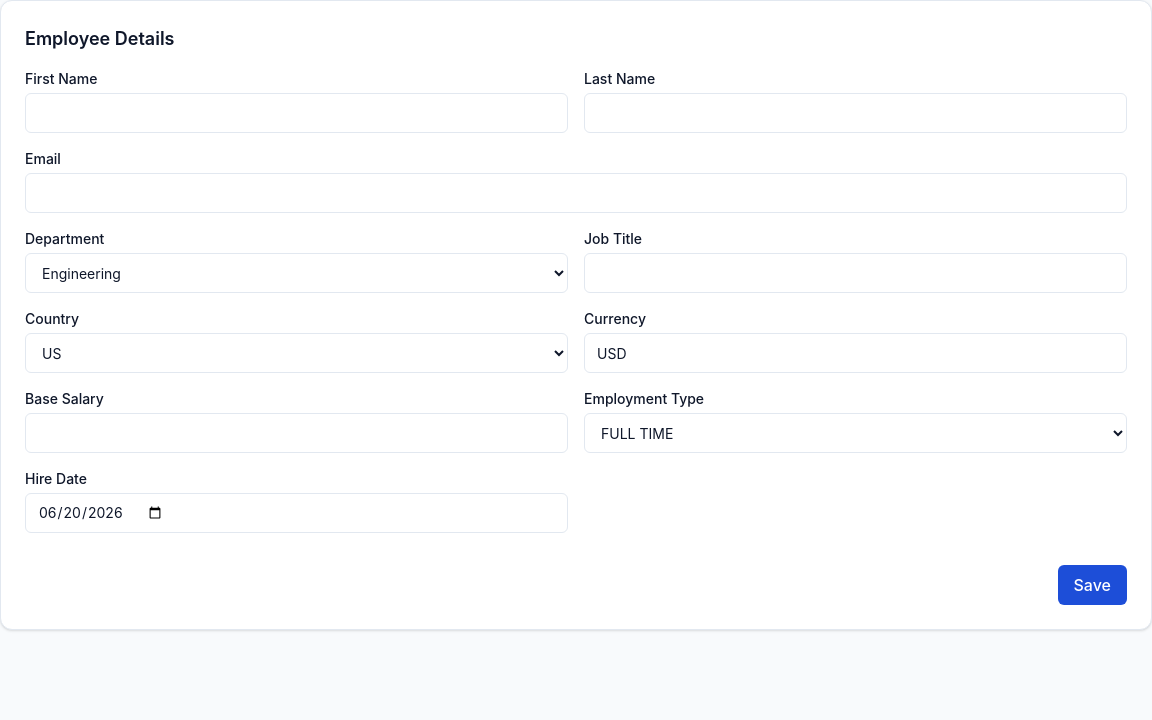
EmployeeForm › auto-updates currency when country changes
Select "GB" in the dropdown below "Country" at {"x": 296, "y": 353}, box [25,333,568,373]
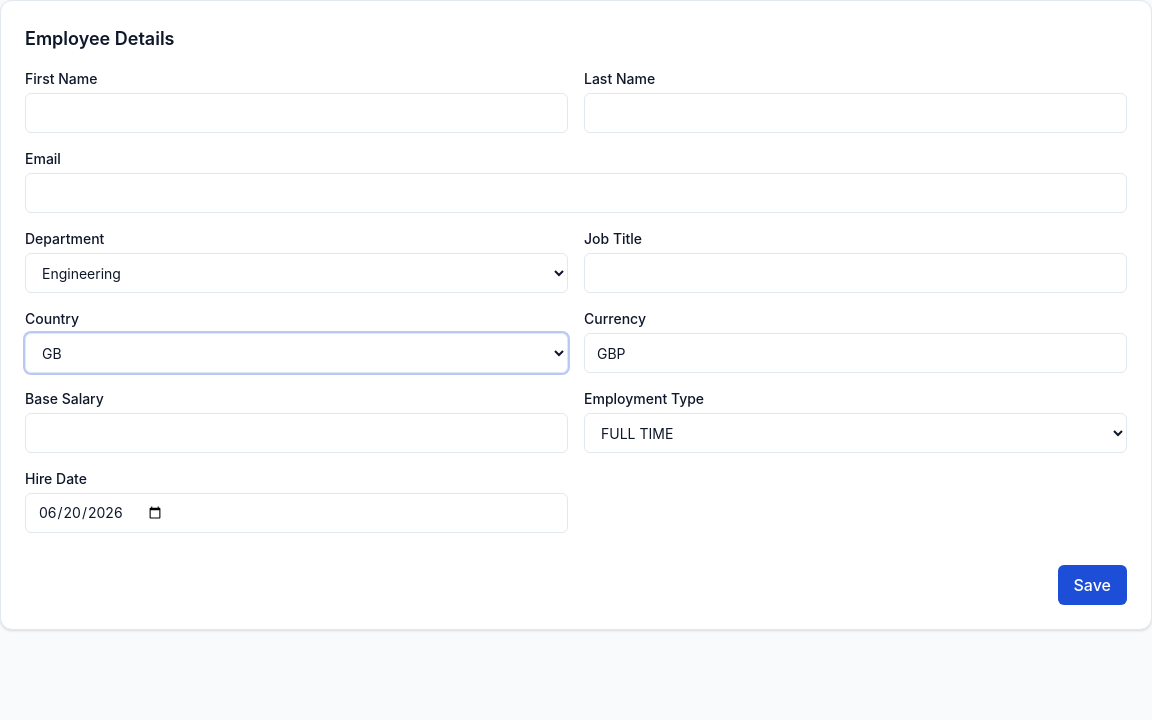
Expected: the field below "Currency" holds "GBP", [584,333,1127,373]
